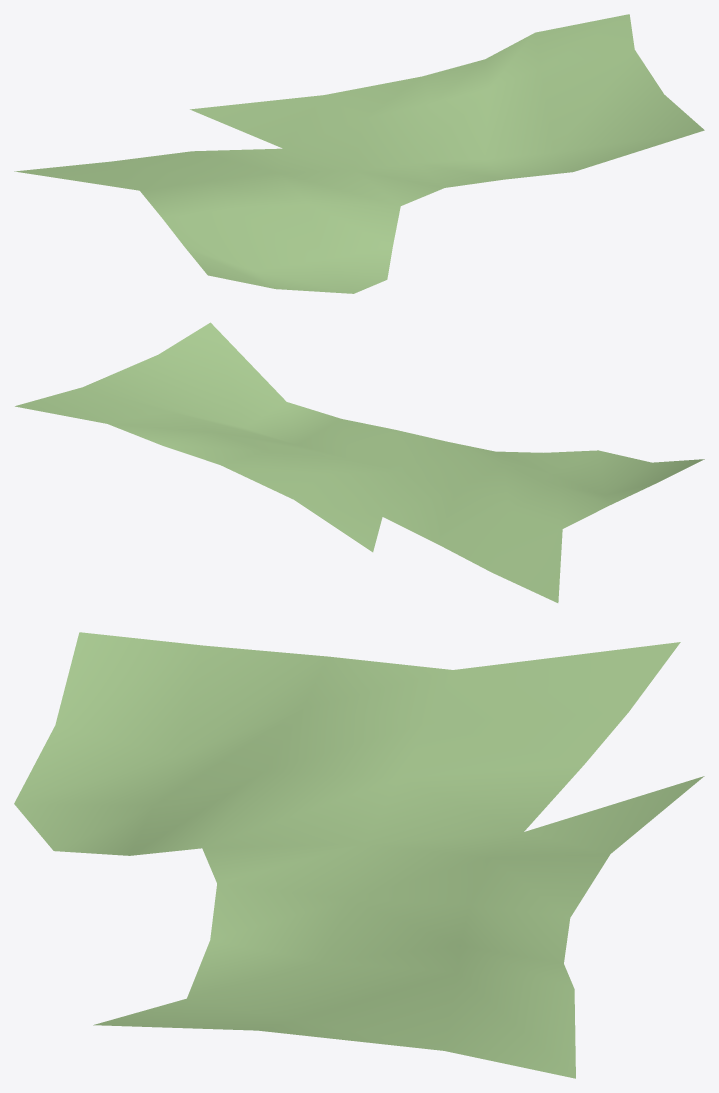
The model's file is level_99.fbx.
3 renders of one model, top to bottom at view 1: azimuth 30°, elevation 25°; view 2: azimuth 150°, elevation 25°; view 3: azimuth 270°, elevation 25°, orthographic. The views are drawn at different scales.
Parts seen in each view (by area): view 1: loc_099; view 2: loc_099; view 3: loc_099.
Part boxes in pixels (x1,y1,x2,y2): loc_099: (14, 14, 704, 293); loc_099: (15, 322, 704, 602); loc_099: (14, 632, 704, 1078).
Size of the model in its own units: 47.58 by 5.12 by 27.75.
